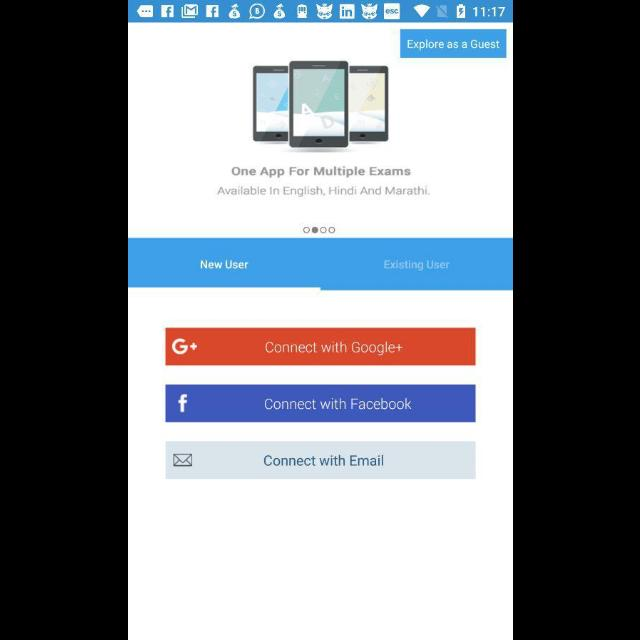image: (252, 60, 388, 152)
multitab: (128, 238, 512, 292)
pageindicator: (302, 226, 336, 234)
text: (216, 186, 429, 198), (231, 167, 411, 179), (383, 260, 449, 272), (200, 260, 248, 270)
textbutton: (164, 328, 476, 366), (165, 385, 475, 423), (165, 441, 475, 479), (400, 30, 506, 60)
uppertaskbar: (128, 1, 512, 23)
